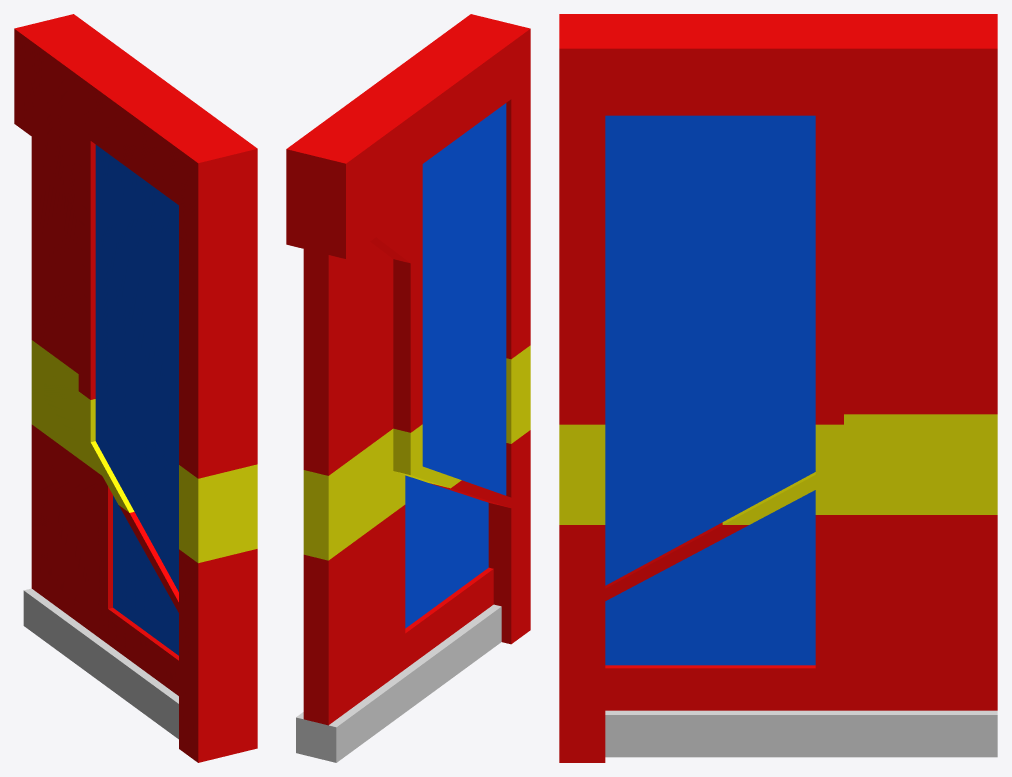
File: Door.fbx
The picture shows the model from 3 angles, left to right: view 1: azimuth 30°, elevation 25°; view 2: azimuth 150°, elevation 25°; view 3: azimuth 270°, elevation 25°; orthographic projection. The views are drawn at different scales.
Parts seen in each view (by area): view 1: pCube3; view 2: pCube3; view 3: pCube3.
Part boxes in pixels (left/top/right/bottom): pCube3: left=14, top=14, right=257, bottom=762; pCube3: left=286, top=14, right=530, bottom=762; pCube3: left=559, top=14, right=997, bottom=762.
Size of the model in its own units: 0.7472 by 7.18 by 4.
